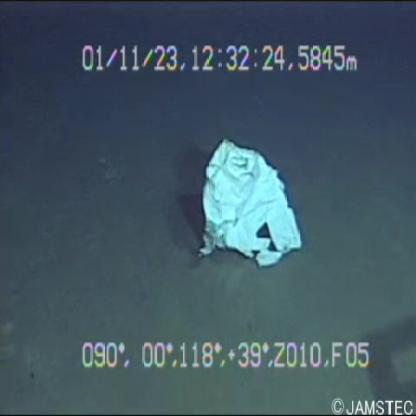Rác: (178, 132, 310, 281)
